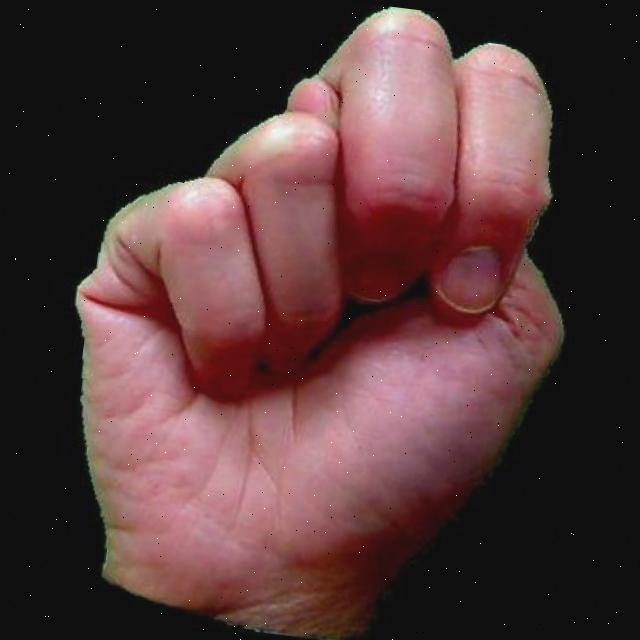n: (11, 0, 610, 640)
